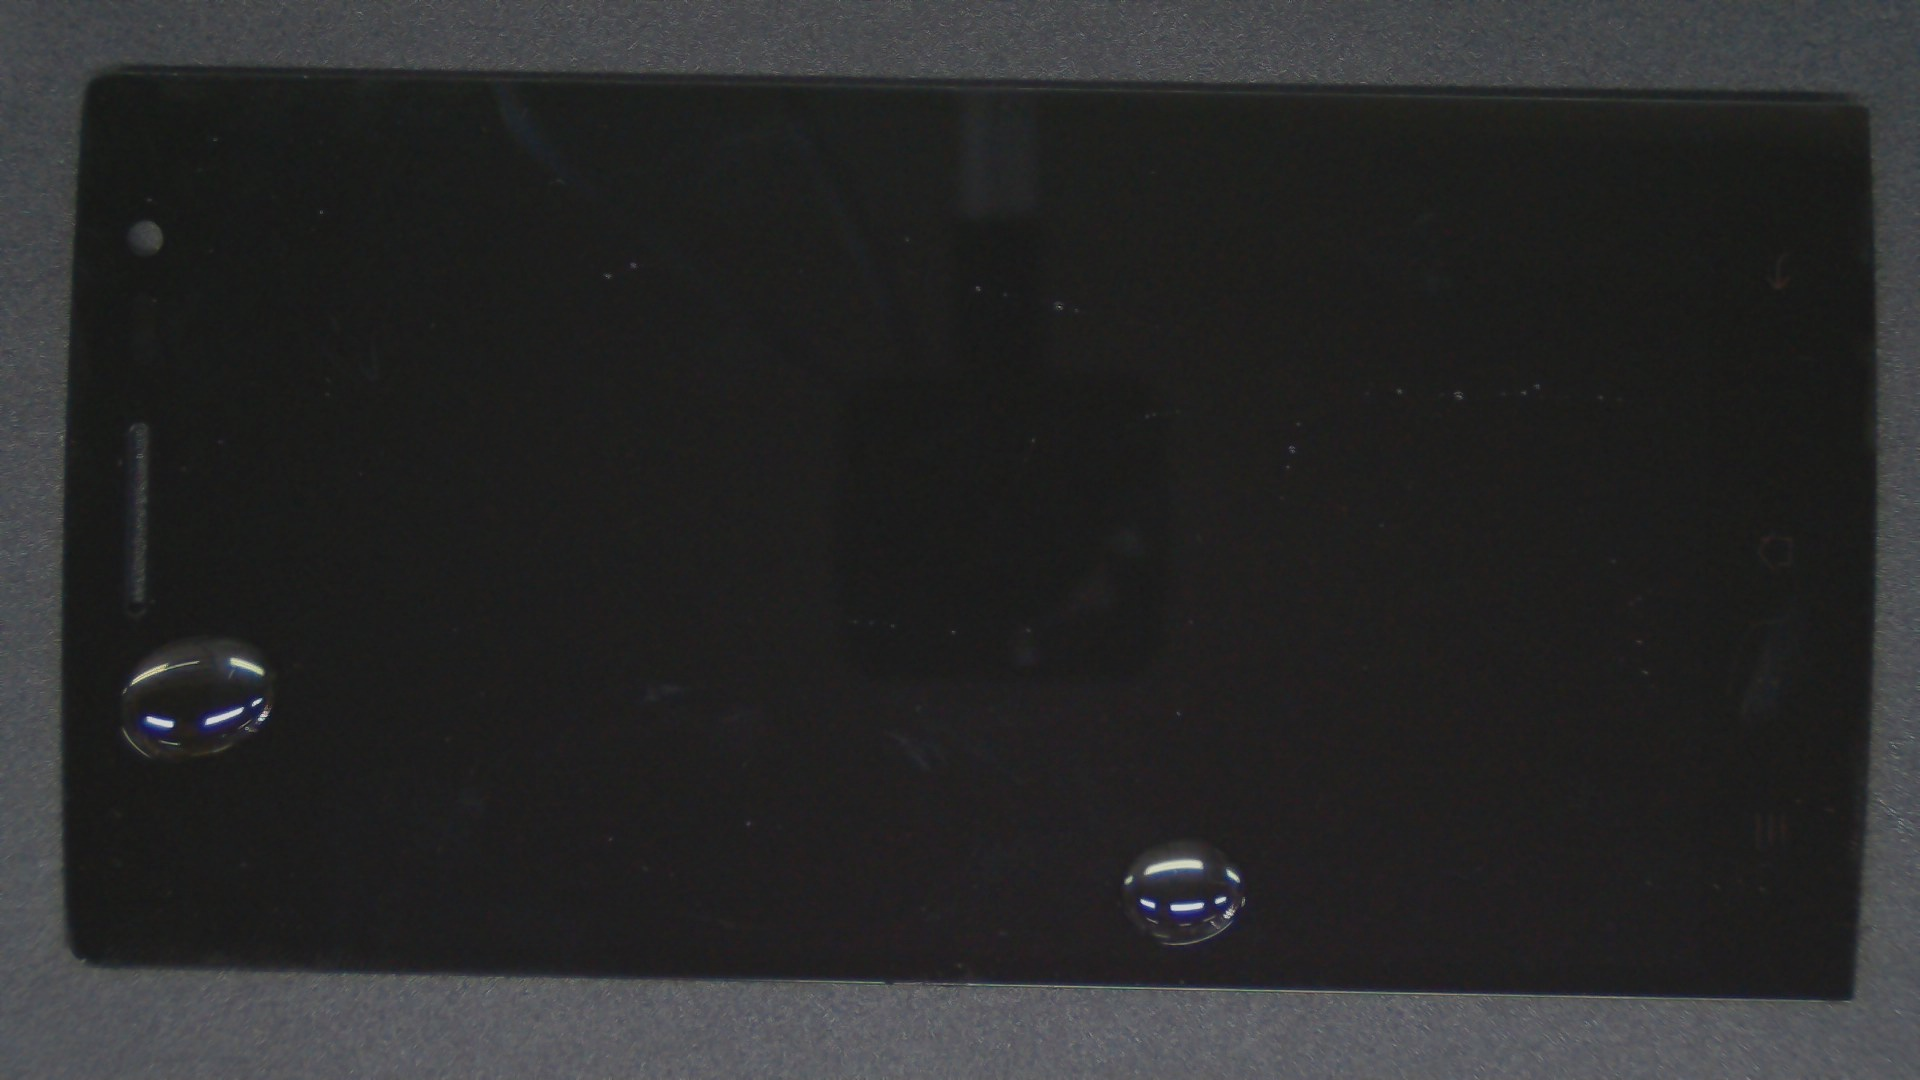oil: (592, 419, 1772, 1080), (102, 318, 305, 955)
